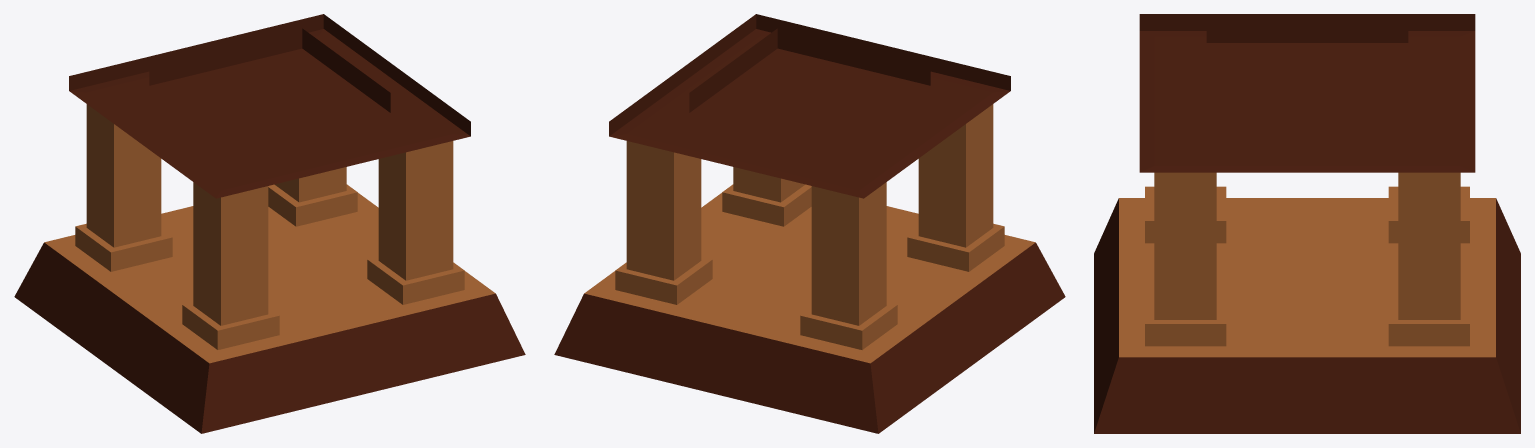
3 renders of one model, left to right at view 1: azimuth 30°, elevation 25°; view 2: azimuth 150°, elevation 25°; view 3: azimuth 270°, elevation 25°, orthographic. The views are drawn at different scales.
Parts seen in each view (by area): view 1: Small Building.001; view 2: Small Building.001; view 3: Small Building.001.
Boxes of the visible parts, x1,y1,x2,y2 form: Small Building.001: [14, 14, 525, 433]; Small Building.001: [554, 14, 1065, 433]; Small Building.001: [1094, 14, 1520, 433].
Bounding box in the file's own units: 1.21 × 0.8821 × 1.21.
